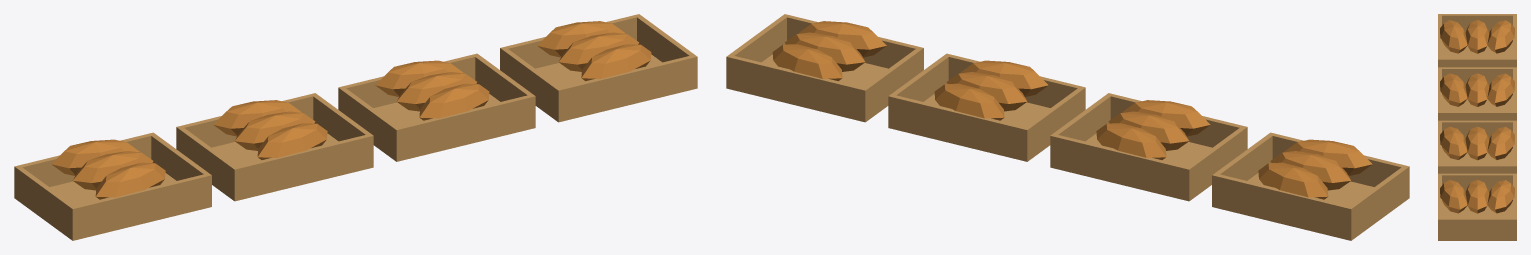
File: market_food_bread.glb
The picture shows the model from 3 angles, left to right: view 1: azimuth 30°, elevation 25°; view 2: azimuth 150°, elevation 25°; view 3: azimuth 270°, elevation 25°; orthographic projection. The views are drawn at different scales.
Visible parts, largest first — view 1: crate_crate_wood, goods_crust (×12); view 2: crate_crate_wood, goods_crust (×12); view 3: crate_crate_wood, goods_crust (×12).
Boxes of the visible parts, x1,y1,x2,y2 form: crate_crate_wood: (14,14,697,240); goods_crust (×12): (51,21,651,199); crate_crate_wood: (726,14,1409,240); goods_crust (×12): (772,21,1372,199); crate_crate_wood: (1438,14,1516,240); goods_crust (×12): (1440,20,1514,213).
Size of the model in its own units: 2.47 by 0.18 by 0.4.
